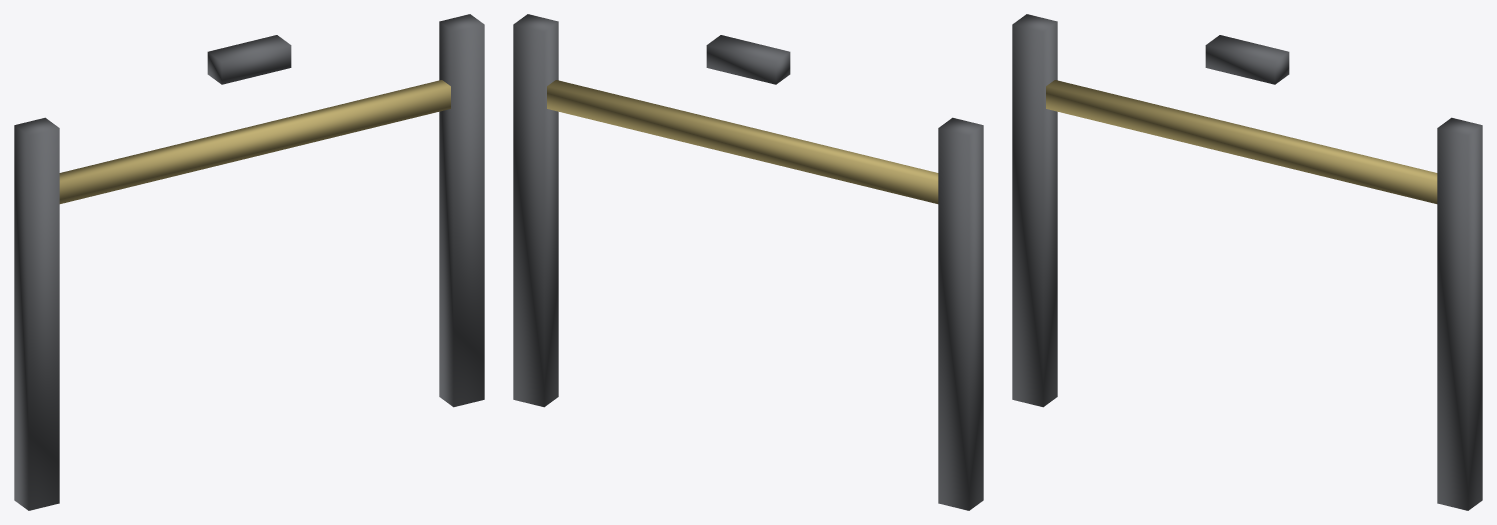
File: queue_gate_12.glb
3 views of the same model, side by side, from view 1: azimuth 30°, elevation 25°; view 2: azimuth 150°, elevation 25°; view 3: azimuth 330°, elevation 25° (orthographic).
Visible parts, largest first — view 1: world; view 2: world; view 3: world.
Part boxes in pixels (bbox=[...]): world: bbox=[14, 14, 484, 510]; world: bbox=[513, 14, 983, 510]; world: bbox=[1012, 14, 1482, 510].
Size of the model in its own units: 1.32 by 1.11 by 0.072.
